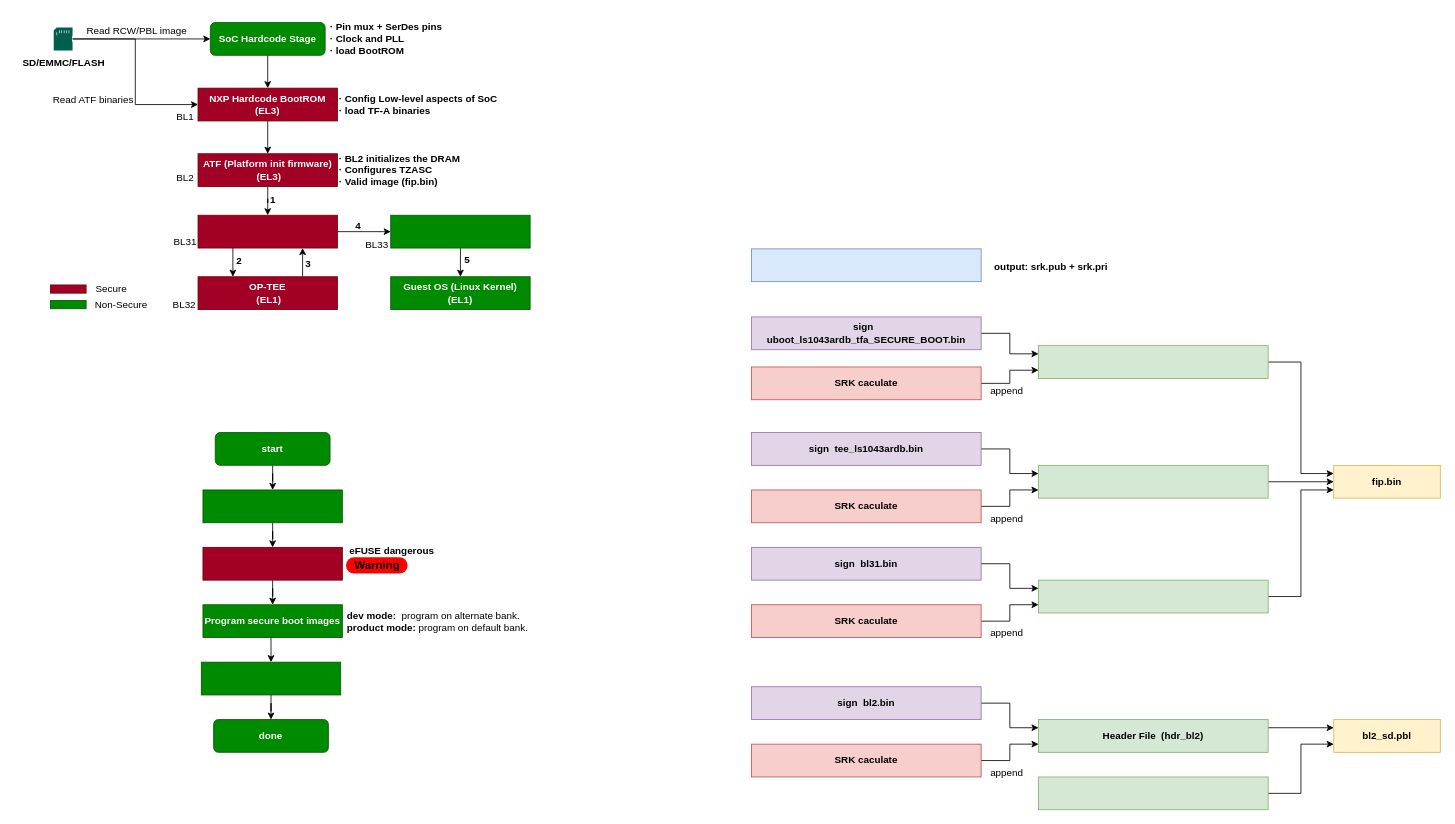
Image size: 1455x824. Some labels were removed from this diagram. The shapes that lost their labels are listed below. From the top down, each one's centre as x and y in pixels, then its label:
At (x=267, y=231): "ATF (Runtime firmware) (EL3)".
At (x=460, y=231): "UBoot/UEFI (EL2)".
At (x=866, y=265): "Gen key (Call gen_keys)".
At (x=1153, y=361): "Header File (bl32.bin.cst)".
At (x=1153, y=481): "Header File (bl33.bin.cst)".
At (x=272, y=506): "Ensure that dev mode/product mode".
At (x=272, y=563): "Provisioning".
At (x=1153, y=596): "Header File (bl31.bin.cst)".
At (x=270, y=678): "Power on board".
At (x=1153, y=793): "RCW + PBL cmd".
